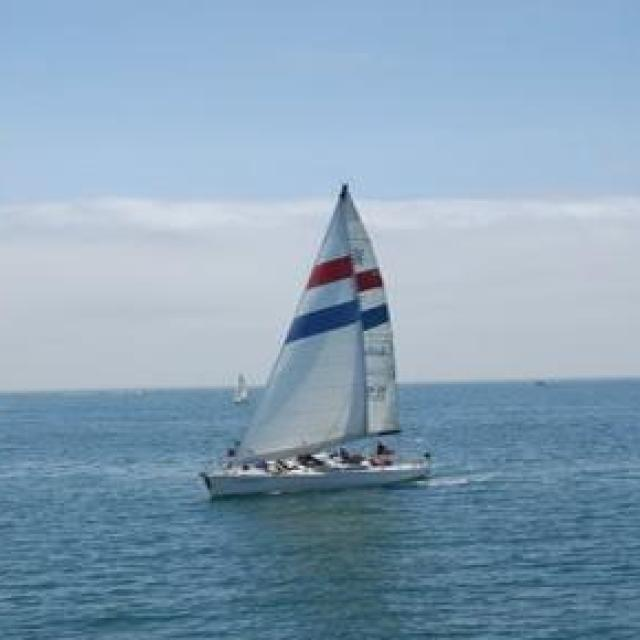sailboat: (201, 179, 440, 499), (229, 368, 253, 409)
